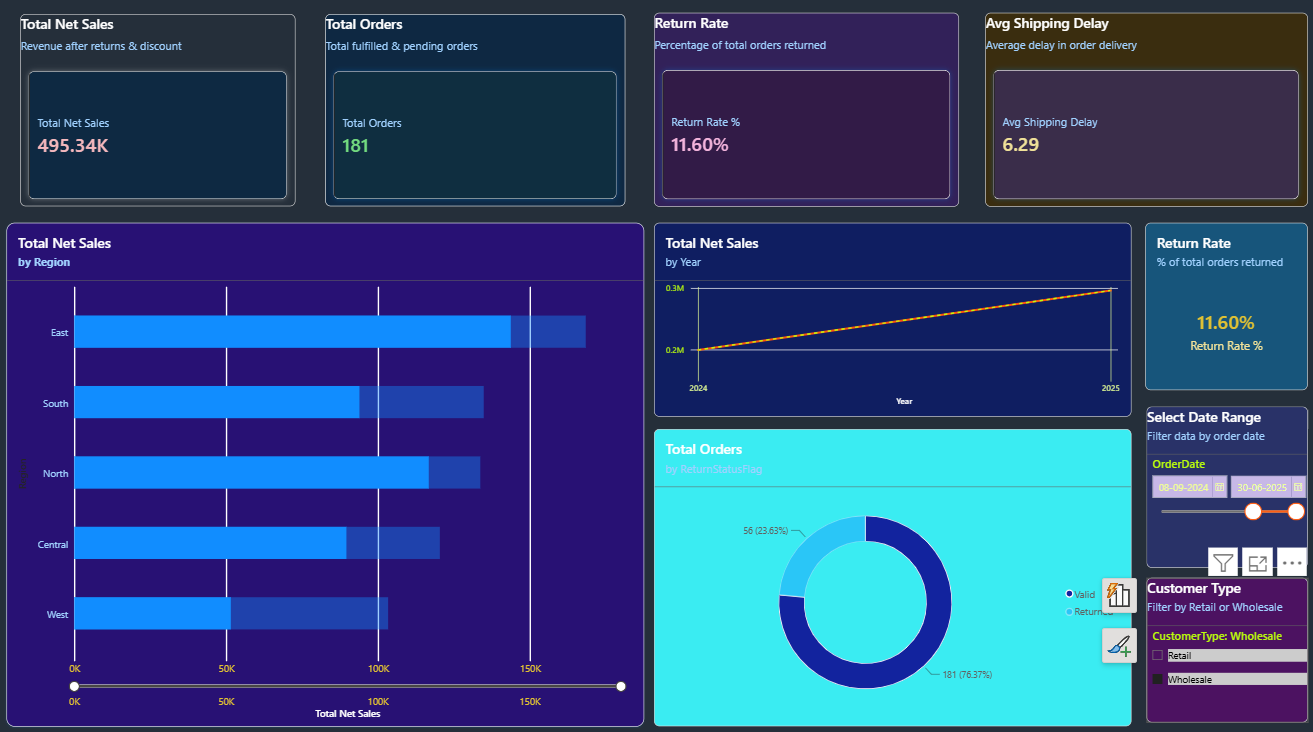

The dashboard page shown, as its layout file describes it:
{"tool":"powerbi","page":{"name":"Page 1","canvas":[1920,1080],"ordinal":0},"visuals":[{"type":"cardVisual","title":"Total Net Sales","fields":{"Data":["Sheet1.Total Net Sales"]},"box":[30.8,29,398.1,278.7],"z":0},{"type":"cardVisual","title":"Total Orders","fields":{"Data":["Sheet1.Total Orders"]},"box":[472.3,29,434.3,278.7],"z":1},{"type":"cardVisual","title":"Return Rate","fields":{"Data":["Sheet1.Return Rate %"]},"box":[948.3,27.1,441.6,280.5],"z":2},{"type":"cardVisual","title":"Avg Shipping Delay","fields":{"Data":["Sheet1.Avg Shipping Delay"]},"box":[1427.8,27.1,466.9,280.5],"z":3},{"type":"clusteredBarChart","fields":{"Category":["Sheet1.Region"],"Y":["Sheet1.Total Net Sales"]},"box":[10.9,331.2,922.9,729.3],"z":4},{"type":"lineChart","fields":{"Category":["Sheet1.OrderDate.Variation.Date Hierarchy.Year","Sheet1.OrderDate.Variation.Date Hierarchy.Quarter","Sheet1.OrderDate.Variation.Date Hierarchy.Month","Sheet1.OrderDate.Variation.Date Hierarchy.Day"],"Y":["Sheet1.Total Net Sales"]},"box":[948.3,331.2,691.3,280.5],"z":5},{"type":"donutChart","fields":{"Category":["Sheet1.ReturnStatusFlag"],"Y":["Sheet1.Total Orders"]},"box":[948.3,629.8,691.3,430.7],"z":6},{"type":"slicer","title":"Customer Type","fields":{"Values":["Sheet1.CustomerType"]},"box":[1661.3,845.1,233.4,209.9],"z":7},{"type":"slicer","title":"Select Date Range","fields":{"Values":["Sheet1.OrderDate"]},"box":[1661.3,597.2,233.4,233.4],"z":8},{"type":"card","title":"Return Rate","fields":{"Values":["Sheet1.Return Rate %"]},"box":[1659.5,331.2,235.3,242.5],"z":9}]}

Visuals, with their boxes in screenshot pixels (x1, y1, x2, y2), scaled from the page's 1920x1080 canvas onto the 1313x732 screenshot:
"Total Net Sales" cardVisual: rect(21, 20, 293, 209)
"Total Orders" cardVisual: rect(323, 20, 620, 209)
"Return Rate" cardVisual: rect(648, 18, 950, 208)
"Avg Shipping Delay" cardVisual: rect(976, 18, 1296, 208)
clusteredBarChart - Sheet1.Region x Sheet1.Total Net Sales: rect(7, 224, 639, 719)
lineChart - Sheet1.OrderDate.Variation.Date Hierarchy.Year x Sheet1.OrderDate.Variation.Date Hierarchy.Quarter: rect(648, 224, 1121, 415)
donutChart - Sheet1.ReturnStatusFlag x Sheet1.Total Orders: rect(648, 427, 1121, 719)
"Customer Type" slicer: rect(1136, 573, 1296, 715)
"Select Date Range" slicer: rect(1136, 405, 1296, 563)
"Return Rate" card: rect(1135, 224, 1296, 389)
